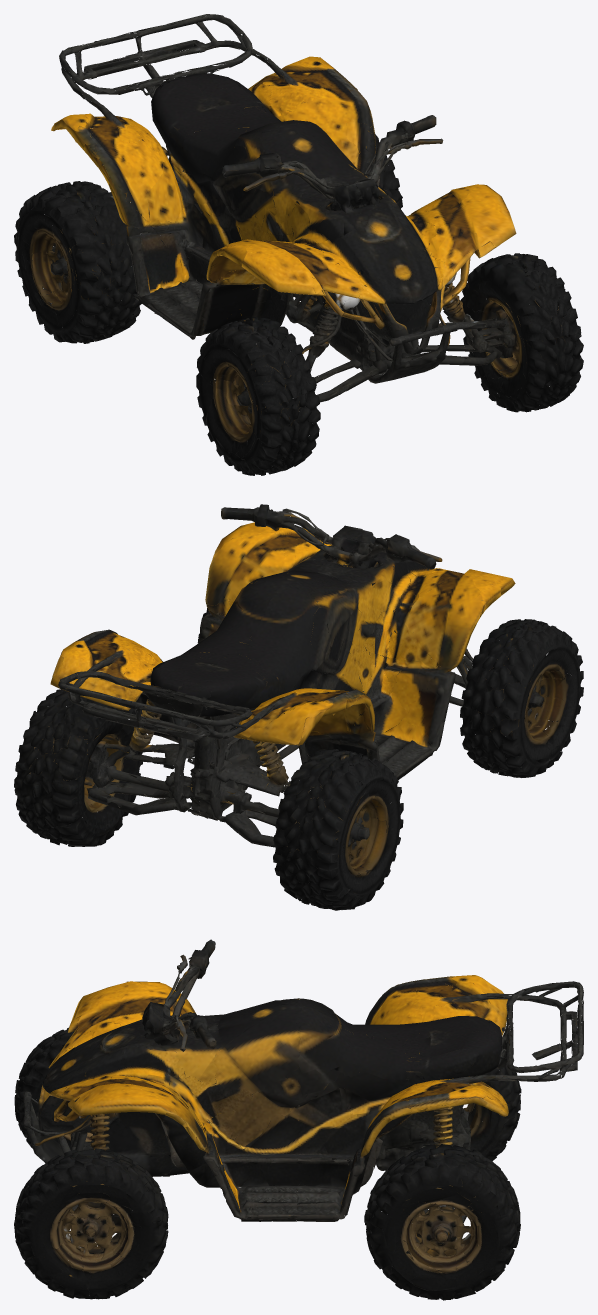
The model's file is sandstalker-atv.glb.
3 views of the same model, one above another, from view 1: azimuth 30°, elevation 25°; view 2: azimuth 150°, elevation 25°; view 3: azimuth 270°, elevation 25° (orthographic). The views are drawn at different scales.
Parts seen in each view (by area): view 1: sandstalker-atv; view 2: sandstalker-atv; view 3: sandstalker-atv.
Boxes of the visible parts, x1,y1,x2,y2 form: sandstalker-atv: (14, 14, 583, 475); sandstalker-atv: (14, 504, 583, 910); sandstalker-atv: (14, 939, 583, 1300).
Bounding box in the file's own units: 1.47 × 1.11 × 2.3.
Materials: 1 (1 with a texture image).
